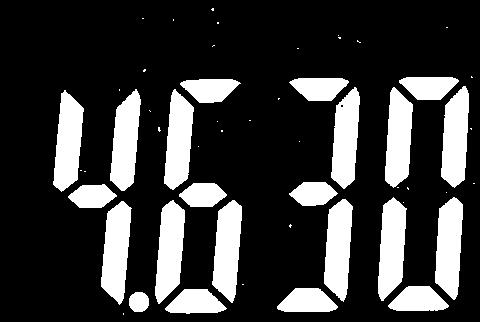0: (374, 73, 472, 316)
3: (271, 76, 361, 314)
4: (49, 87, 141, 307)
6: (152, 76, 245, 315)
dot: (126, 288, 153, 313)
